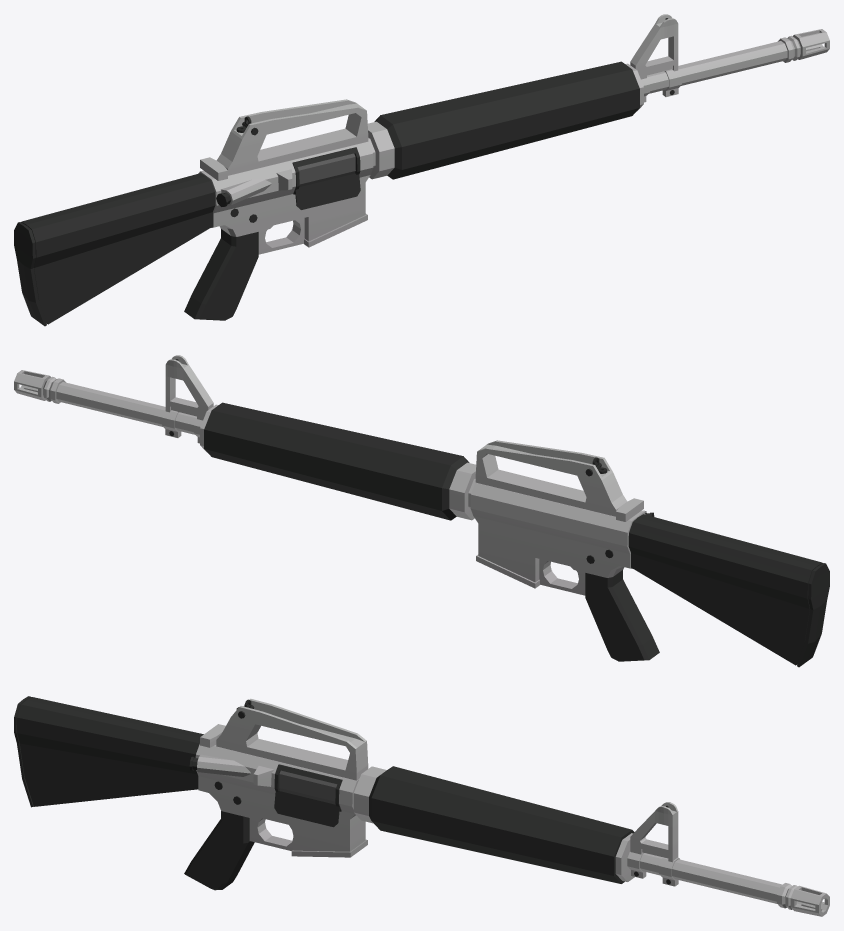
The model's file is SM_AssaultRifle4_04.glb.
The picture shows the model from 3 angles, top to bottom: view 1: azimuth 30°, elevation 25°; view 2: azimuth 150°, elevation 25°; view 3: azimuth 330°, elevation 25°; orthographic projection.
Parts seen in each view (by area): view 1: SM_AssaultRifle4_04; view 2: SM_AssaultRifle4_04; view 3: SM_AssaultRifle4_04.
Boxes of the visible parts, x1,y1,x2,y2 form: SM_AssaultRifle4_04: (14,14,829,326); SM_AssaultRifle4_04: (14,355,829,667); SM_AssaultRifle4_04: (14,696,829,916).
Bounding box in the file's own units: 1.04 × 0.2381 × 0.0756.
1 material, 1 textured.
